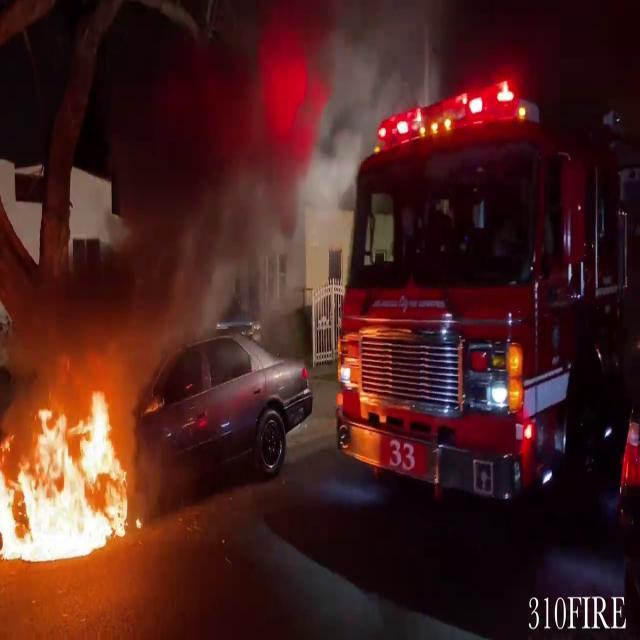Fire: (0, 390, 136, 564)
Smoke: (61, 0, 411, 361)
